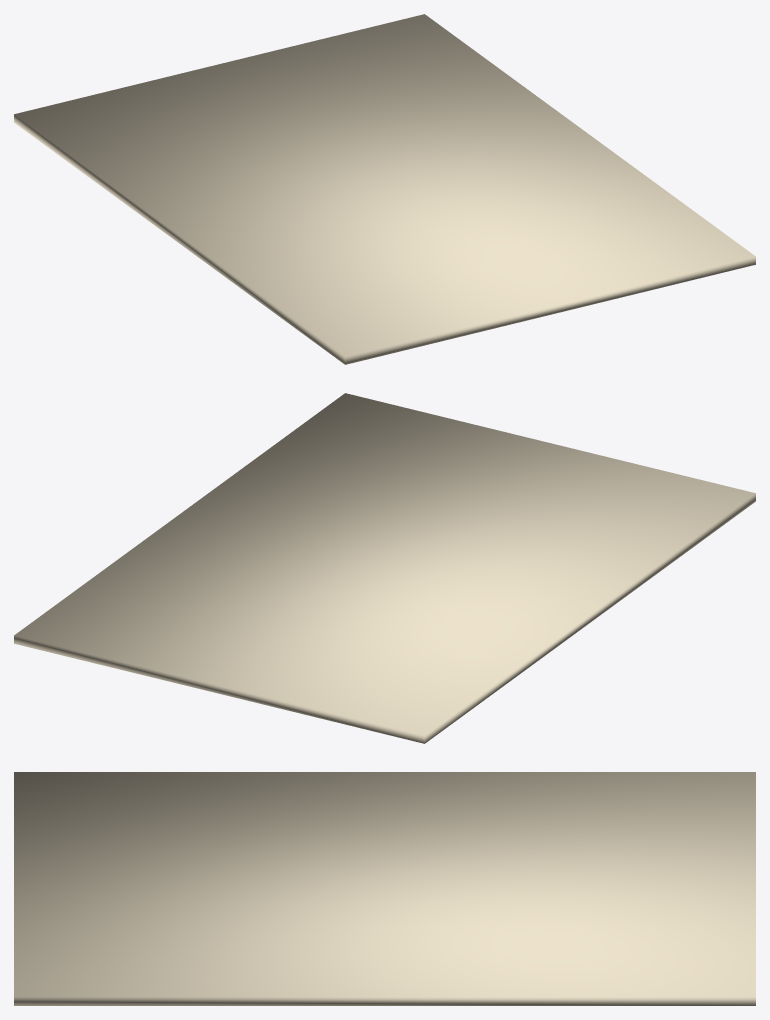
File: cards.glb
The picture shows the model from 3 angles, top to bottom: view 1: azimuth 30°, elevation 25°; view 2: azimuth 150°, elevation 25°; view 3: azimuth 270°, elevation 25°; orthographic projection. The views are drawn at different scales.
Parts seen in each view (by area): view 1: prop_cards; view 2: prop_cards; view 3: prop_cards.
Boxes of the visible parts, x1=… form: prop_cards: x1=14, y1=14, x2=755, y2=364; prop_cards: x1=14, y1=393, x2=755, y2=743; prop_cards: x1=14, y1=772, x2=755, y2=1005.
Bounding box in the file's own units: 0.063 × 0.00156 × 0.088.
